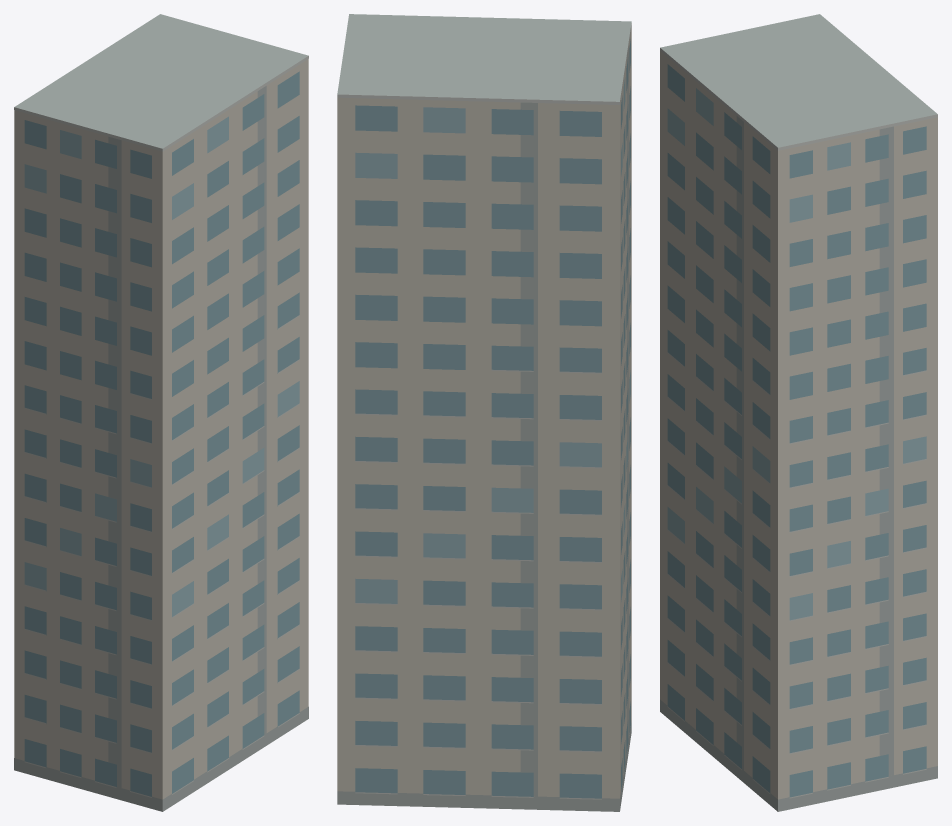
File: residential-4badb80a-5f4a-472e-a6b1-75665b76ba0a.glb
The picture shows the model from 3 angles, left to right: view 1: azimuth 30°, elevation 25°; view 2: azimuth 150°, elevation 25°; view 3: azimuth 270°, elevation 25°; orthographic projection. The views are drawn at different scales.
Visible parts, largest first — view 1: residential-4badb80a-5f4a-472e-a6b1-75665b76ba0a.tmp; view 2: residential-4badb80a-5f4a-472e-a6b1-75665b76ba0a.tmp; view 3: residential-4badb80a-5f4a-472e-a6b1-75665b76ba0a.tmp.
Boxes of the visible parts, bbox=[...] form: residential-4badb80a-5f4a-472e-a6b1-75665b76ba0a.tmp: bbox=[14, 14, 308, 811]; residential-4badb80a-5f4a-472e-a6b1-75665b76ba0a.tmp: bbox=[337, 14, 631, 811]; residential-4badb80a-5f4a-472e-a6b1-75665b76ba0a.tmp: bbox=[660, 14, 937, 811].
Size of the model in its own units: 23.34 by 54 by 20.48.
